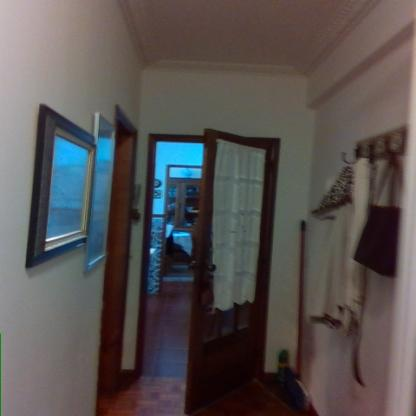semi: (131, 122, 291, 408)
